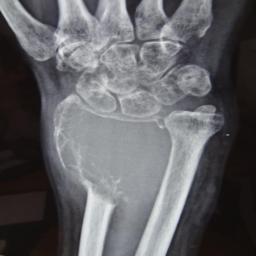cancer: (54, 94, 166, 205)
